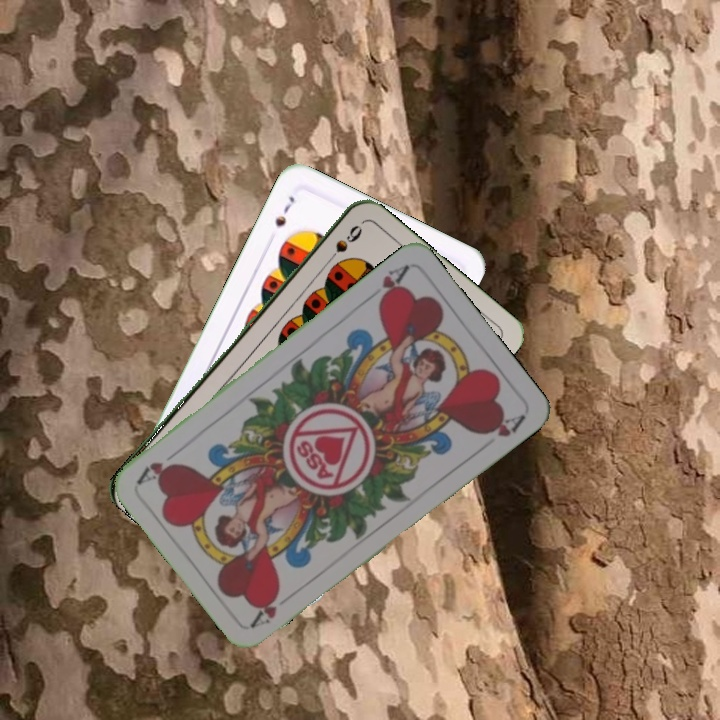HA: (362, 261, 411, 308), (247, 587, 298, 630)
S7: (270, 192, 298, 230)
S9: (320, 220, 365, 269)
